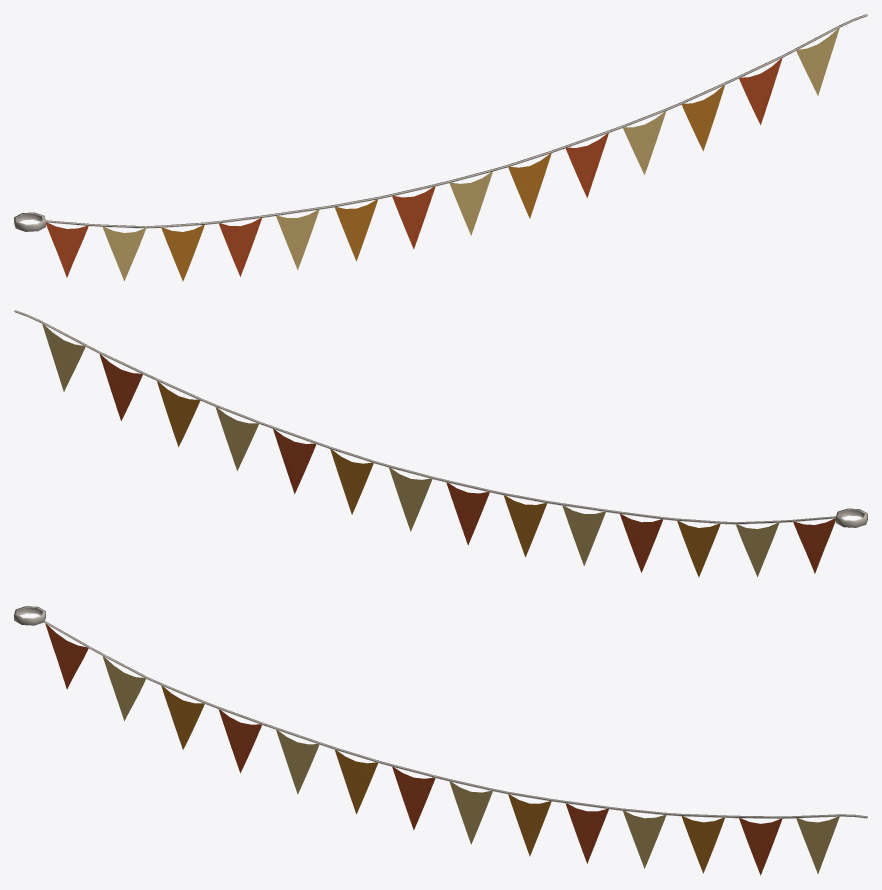
File: objects_un_t03gym_garland01.gltf
The picture shows the model from 3 angles, top to bottom: view 1: azimuth 30°, elevation 25°; view 2: azimuth 150°, elevation 25°; view 3: azimuth 330°, elevation 25°; orthographic projection.
Visible parts, largest first — view 1: garland01_mesh_shape:objects_un_t03garland01_01; view 2: garland01_mesh_shape:objects_un_t03garland01_01; view 3: garland01_mesh_shape:objects_un_t03garland01_01.
Boxes of the visible parts, box(x1,y1,x2,y2) form: garland01_mesh_shape:objects_un_t03garland01_01: box(14, 14, 867, 281); garland01_mesh_shape:objects_un_t03garland01_01: box(14, 310, 867, 577); garland01_mesh_shape:objects_un_t03garland01_01: box(14, 606, 867, 875).
Size of what is drawn, in the model's own units: 8.21 by 1.15 by 0.2778.
1 material, 1 textured.
